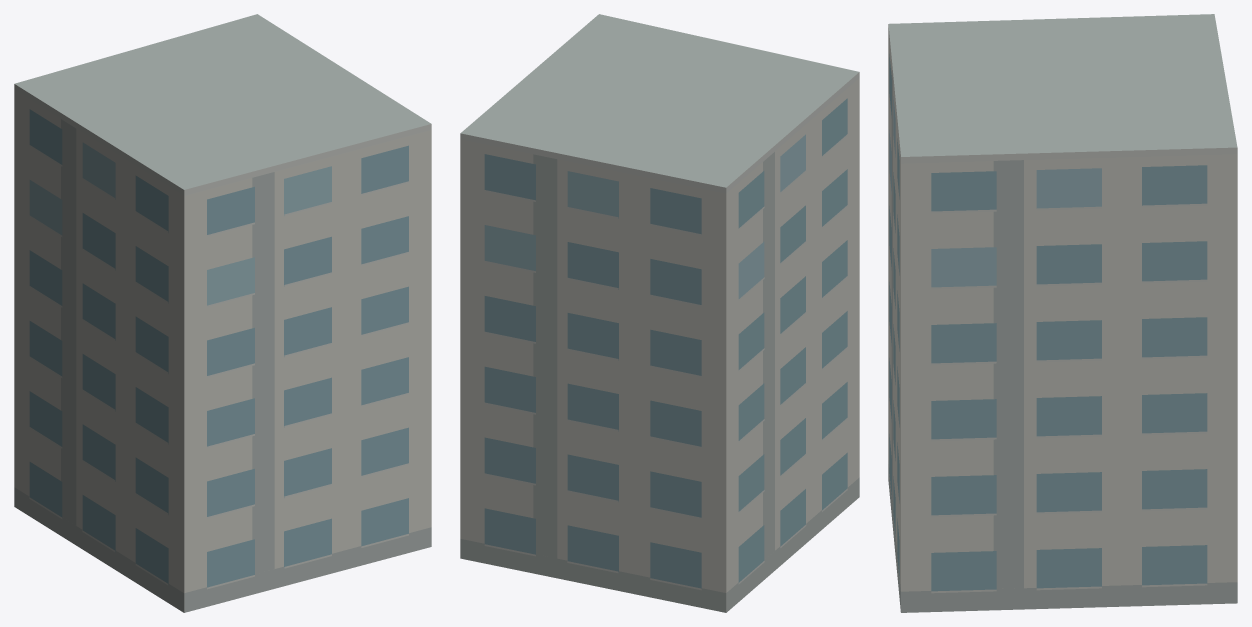
The model's file is survey-upis-32892436.glb.
The picture shows the model from 3 angles, left to right: view 1: azimuth 30°, elevation 25°; view 2: azimuth 150°, elevation 25°; view 3: azimuth 270°, elevation 25°; orthographic projection. The views are drawn at different scales.
Visible parts, largest first — view 1: survey-upis-32892436.tmp; view 2: survey-upis-32892436.tmp; view 3: survey-upis-32892436.tmp.
Boxes of the visible parts, x1,y1,x2,y2 form: survey-upis-32892436.tmp: (14, 14, 431, 612); survey-upis-32892436.tmp: (460, 14, 859, 612); survey-upis-32892436.tmp: (888, 14, 1237, 612).
Size of the model in its own units: 11.48 by 17.05 by 11.84.
